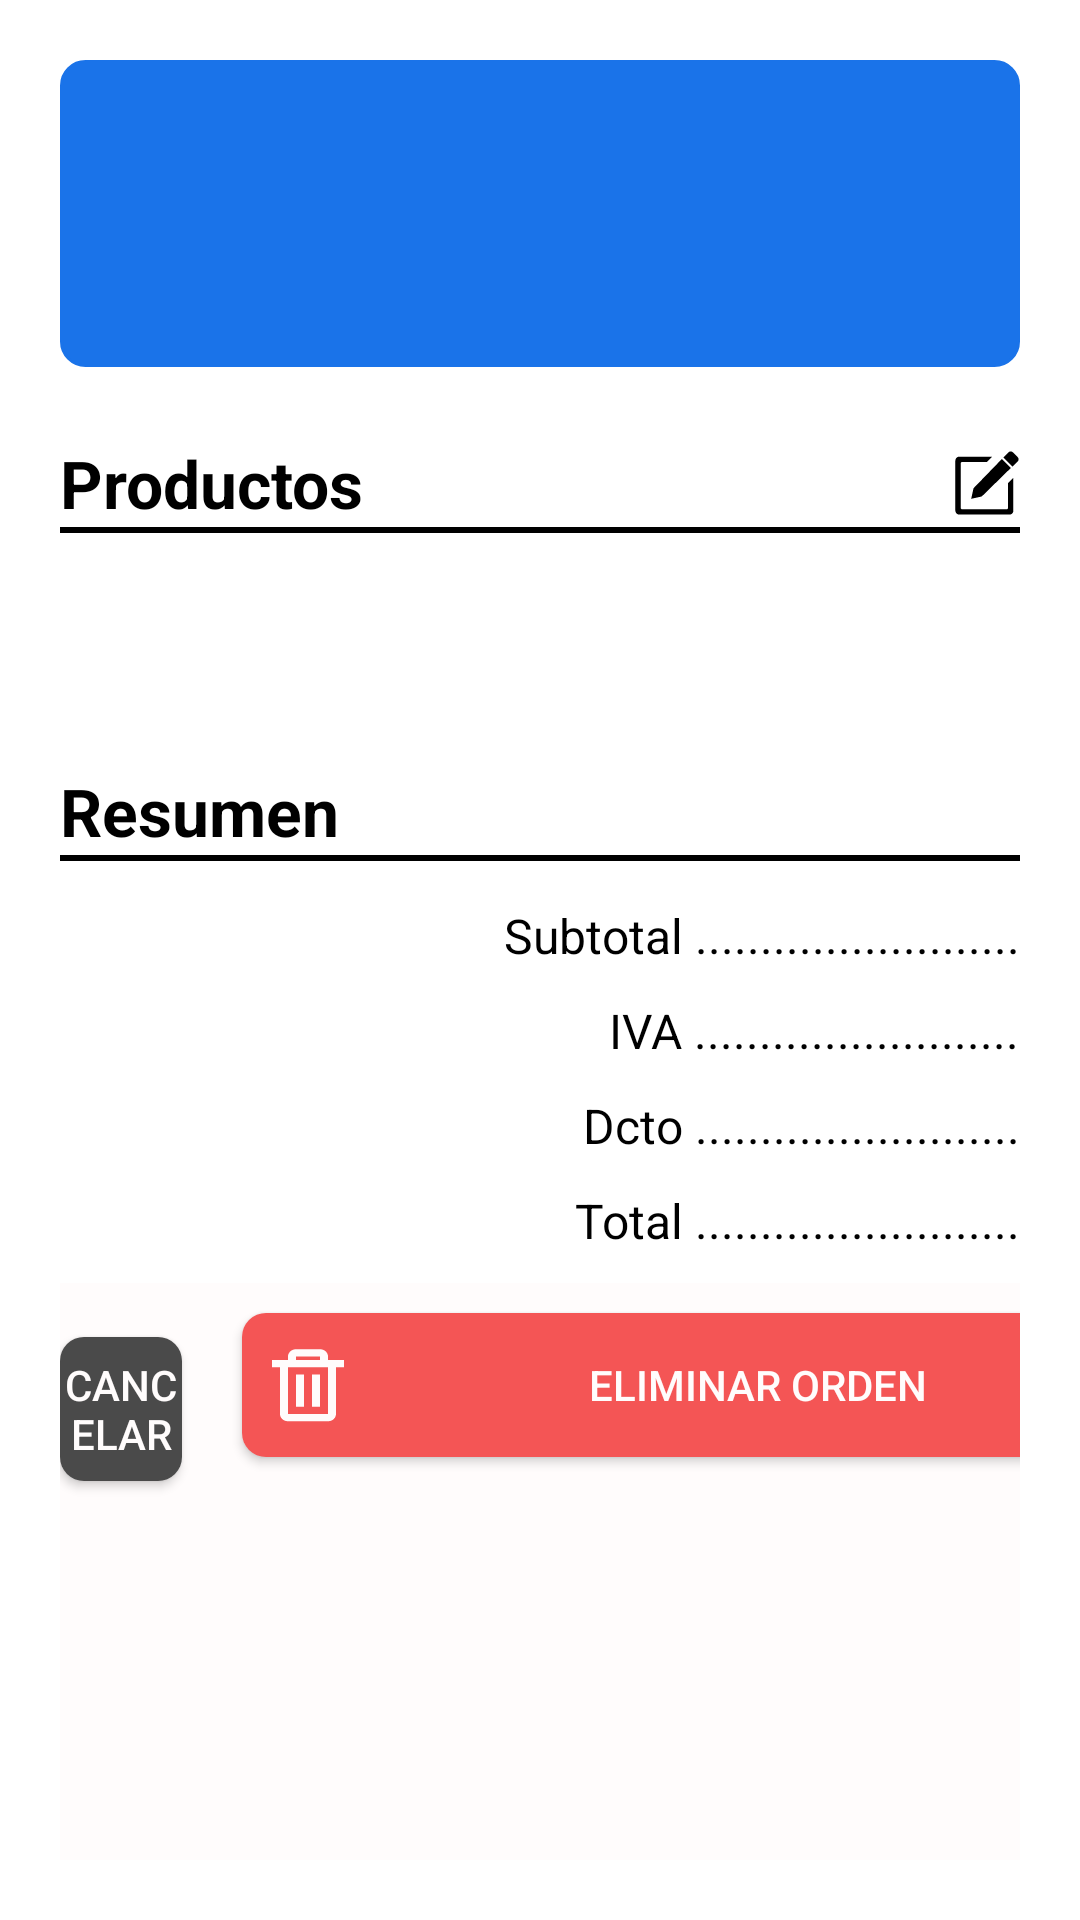

Icons on this 1080w x 1920h Android screen, each with its box as [x1, y1, x2, y2]:
edit: [955, 451, 1019, 515]
